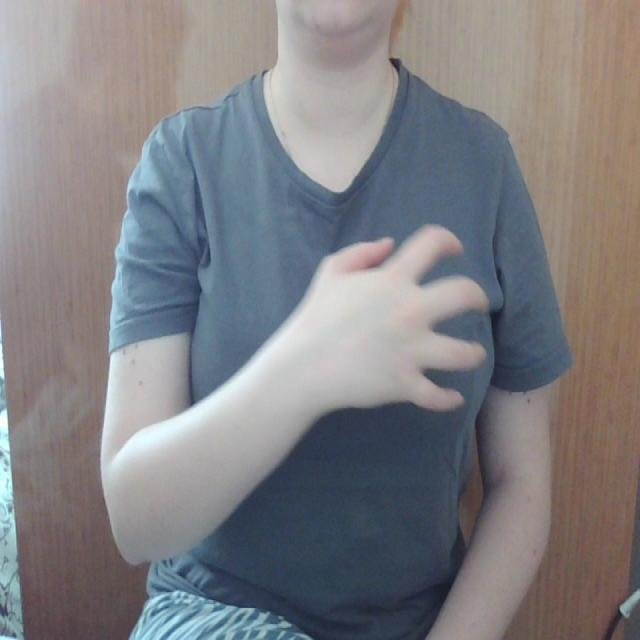Anne: (256, 217, 540, 414)
